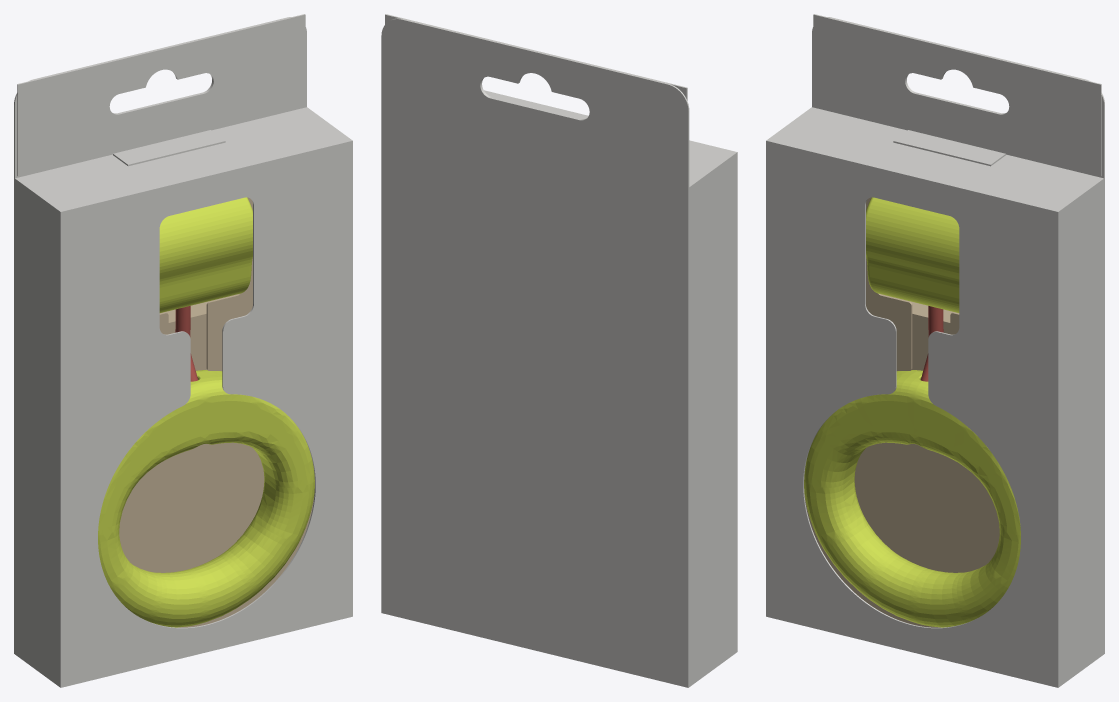
Rendered from Tuerzwerg_Verpackung.glb.
3 renders of one model, left to right at view 1: azimuth 30°, elevation 25°; view 2: azimuth 150°, elevation 25°; view 3: azimuth 330°, elevation 25°, orthographic. The views are drawn at different scales.
Visible parts, largest first — view 1: Umverpackung, Aufhaenger, Ring, Einleger, Manschette, Zunge, Schnur; view 2: Umverpackung, Aufhaenger; view 3: Umverpackung, Aufhaenger, Ring, Einleger, Manschette, Zunge, Schnur.
Boxes of the visible parts, <box> form: Umverpackung: <box>14,107,352,687</box>; Aufhaenger: <box>14,14,306,178</box>; Ring: <box>98,370,314,627</box>; Einleger: <box>119,197,314,627</box>; Manschette: <box>159,197,252,312</box>; Zunge: <box>113,130,225,166</box>; Schnur: <box>175,306,198,381</box>; Umverpackung: <box>381,90,737,687</box>; Aufhaenger: <box>381,14,689,187</box>; Umverpackung: <box>766,107,1104,687</box>; Aufhaenger: <box>812,14,1104,178</box>; Ring: <box>804,370,1020,627</box>; Einleger: <box>804,197,999,627</box>; Manschette: <box>866,197,959,312</box>; Zunge: <box>893,130,1005,166</box>; Schnur: <box>920,306,943,381</box>.
Size of the model in its own units: 0.0899 by 0.1674 by 0.0249.
